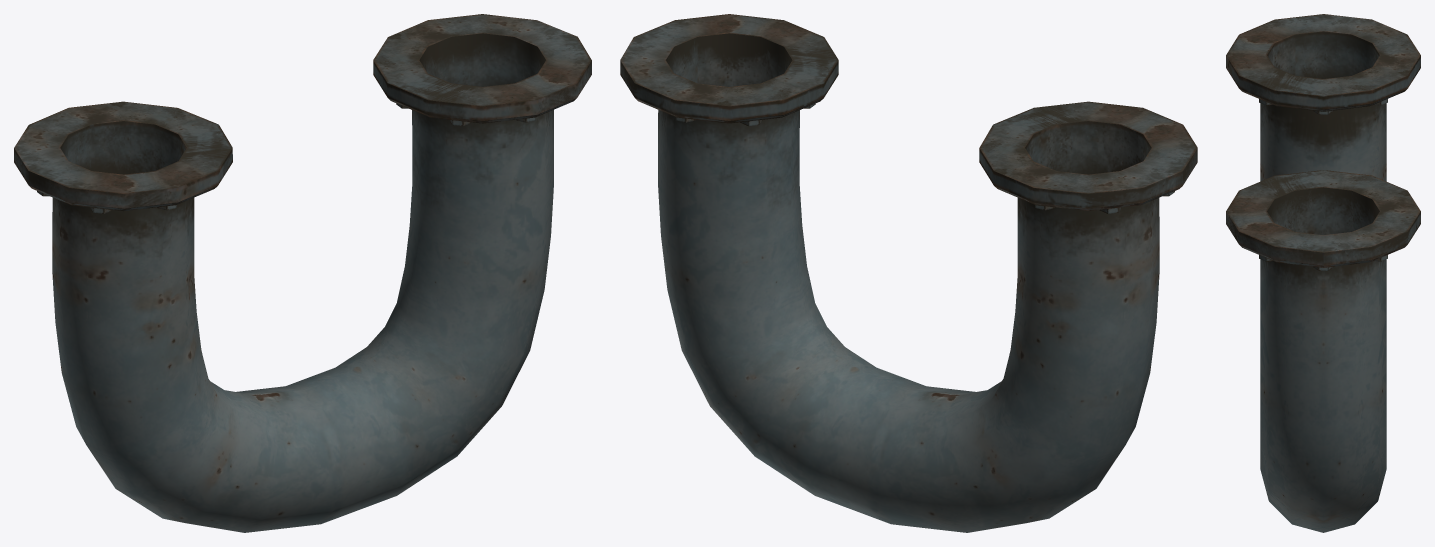
Rendered from pipe05.glb.
3 renders of one model, left to right at view 1: azimuth 30°, elevation 25°; view 2: azimuth 150°, elevation 25°; view 3: azimuth 270°, elevation 25°, orthographic. The views are drawn at different scales.
Parts seen in each view (by area): view 1: modular_industrial_pipes_01_pipe05.001; view 2: modular_industrial_pipes_01_pipe05.001; view 3: modular_industrial_pipes_01_pipe05.001.
Part boxes in pixels (<box>): modular_industrial_pipes_01_pipe05.001: <box>14,14,591,532</box>; modular_industrial_pipes_01_pipe05.001: <box>620,14,1197,532</box>; modular_industrial_pipes_01_pipe05.001: <box>1226,14,1420,532</box>.
Bounding box in the file's own units: 0.5981 × 0.4329 × 0.2063.
Materials: 1 (1 with a texture image).
